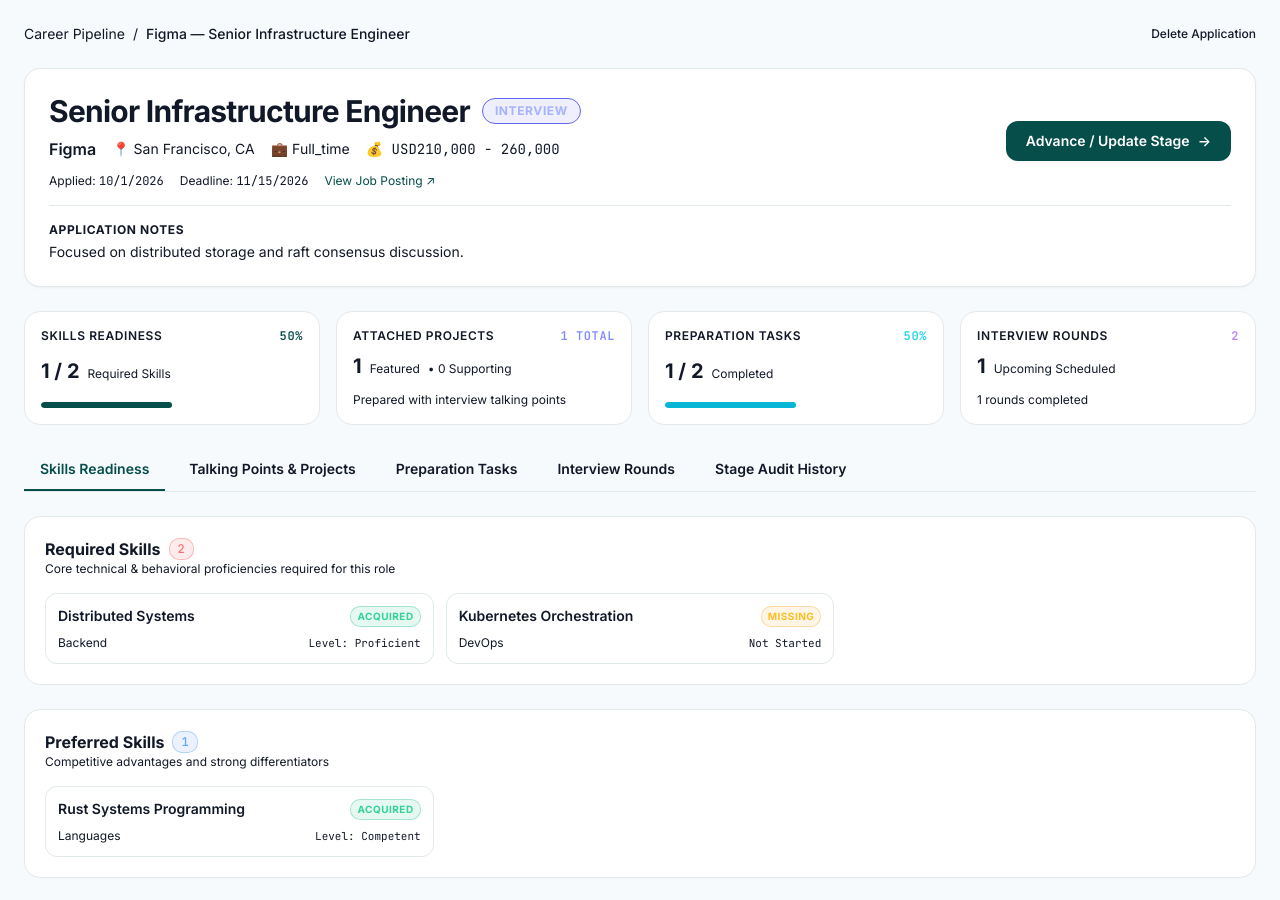
Test: CareerApplicationDetailPage & Preparation Workspace (Phase 16E) › navigates to Talking Points & Projects tab and displays featured projects with talking points
Click the button "Talking Points & Projects".
click(272, 470)  # box [173,449,372,491]
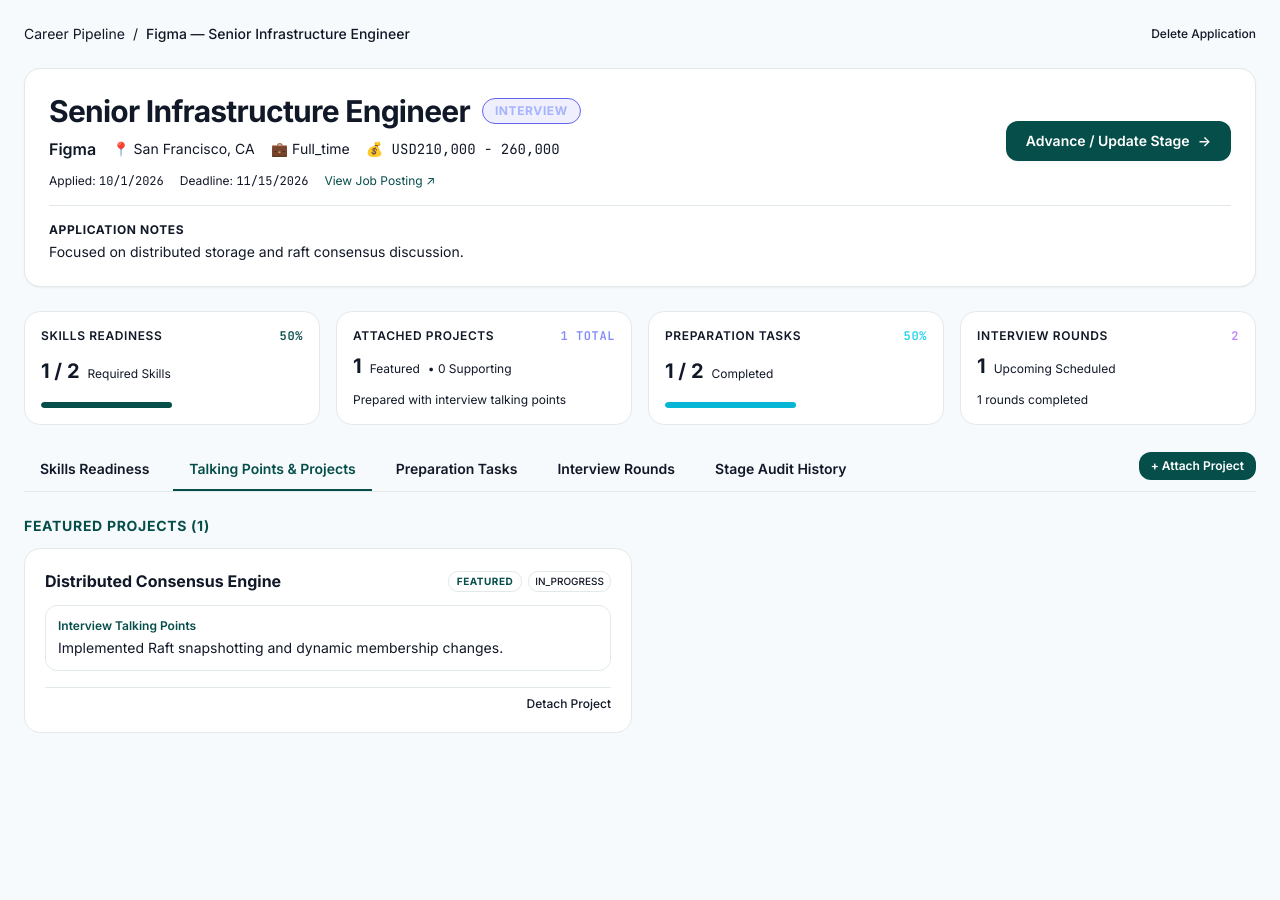
Expected: the heading "Distributed Consensus Engine" is shown, [45,569,281,593]
Expected: the text "Implemented Raft snapshotting and dynamic membership changes." is shown, [58,639,503,656]
Expected: the button "+ Attach Project" is shown, [1139,452,1256,480]
